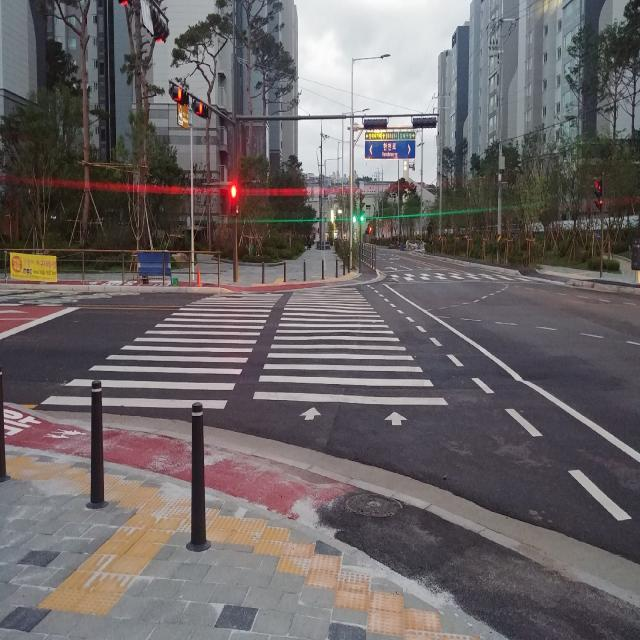빨간불: (227, 186, 240, 217)
횡단보도: (39, 284, 450, 428), (392, 268, 514, 282)
